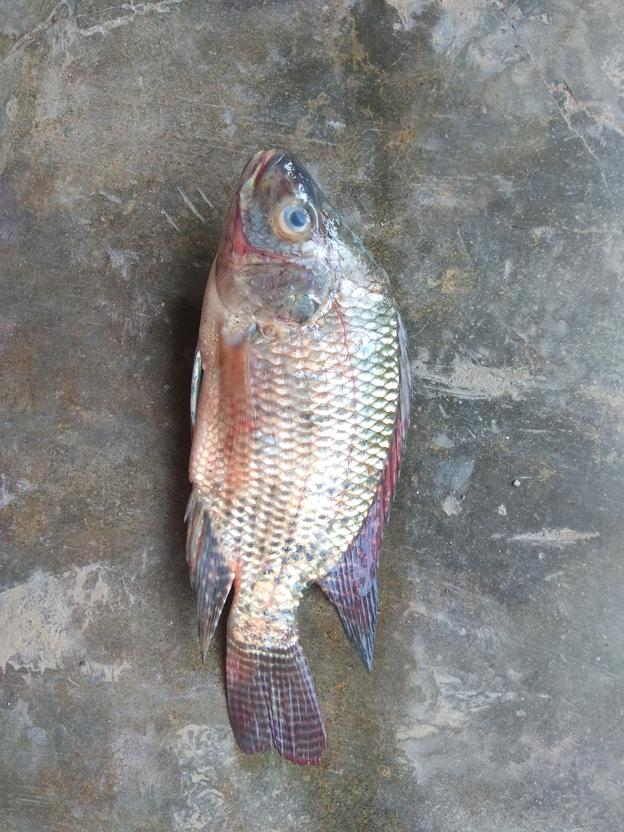Fish head: (210, 148, 377, 331)
Fish tail: (222, 627, 332, 770)
